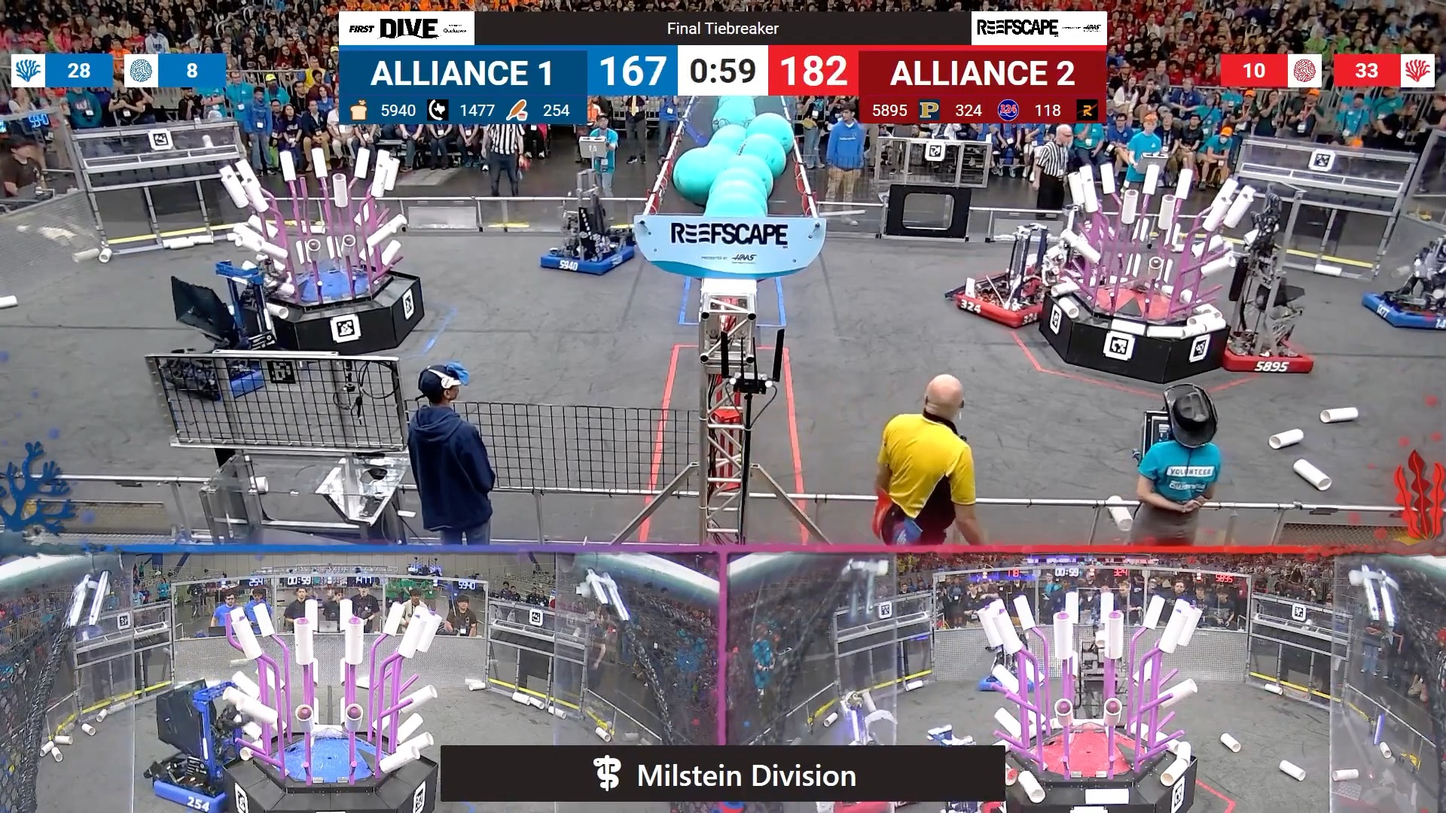bumpers: (949, 273, 1057, 330), (1212, 327, 1321, 382), (169, 347, 281, 400), (141, 764, 239, 813), (1350, 287, 1446, 337), (533, 240, 642, 279), (974, 675, 1042, 696)
